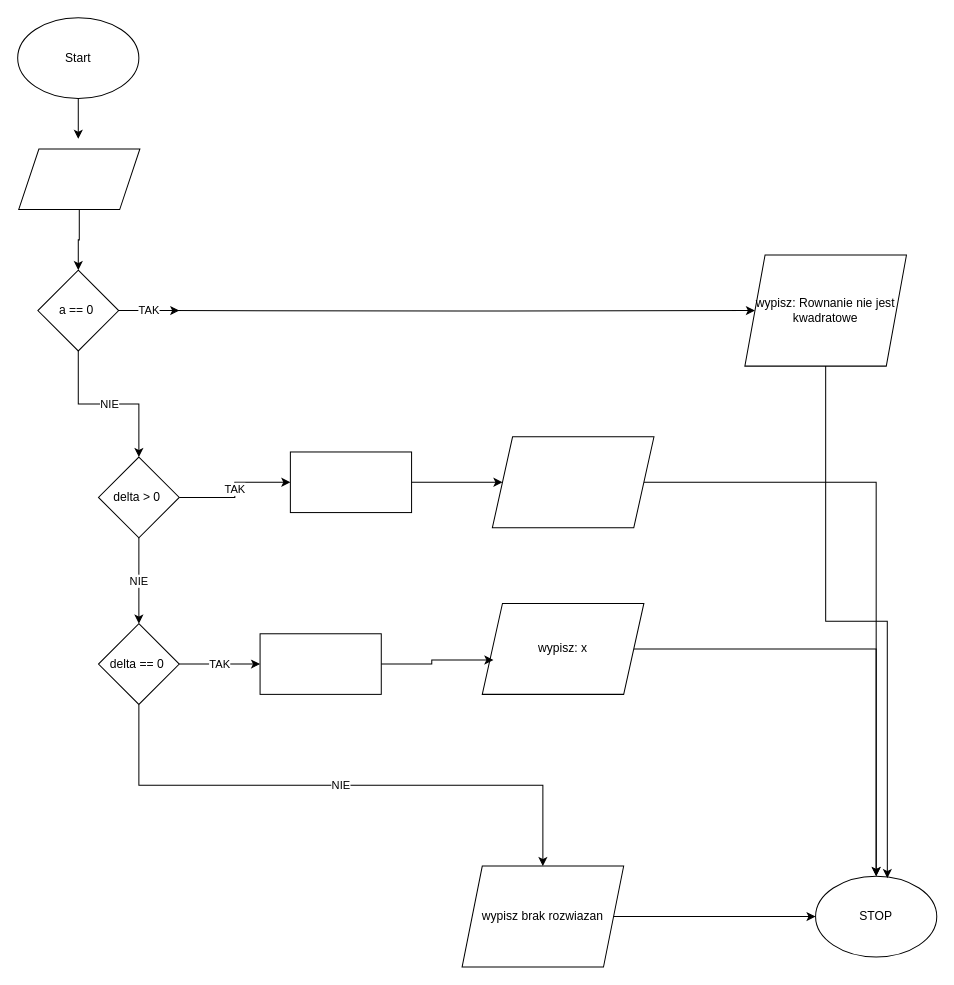
The diagram is 954 pixels wide and 985 high, and some of its shapes have lost their labels. The box of each missing label's shape, as (x1, y1, x2, y2) in pixels:
czytaj: a, b, c: (18, 148, 140, 210)
mamy dwa rozwiazania, policz x1,x2: (289, 451, 412, 513)
mamy jedno rozwiazanie, policz x: (259, 633, 381, 694)
wypisz: x1, x2: (491, 436, 654, 528)
